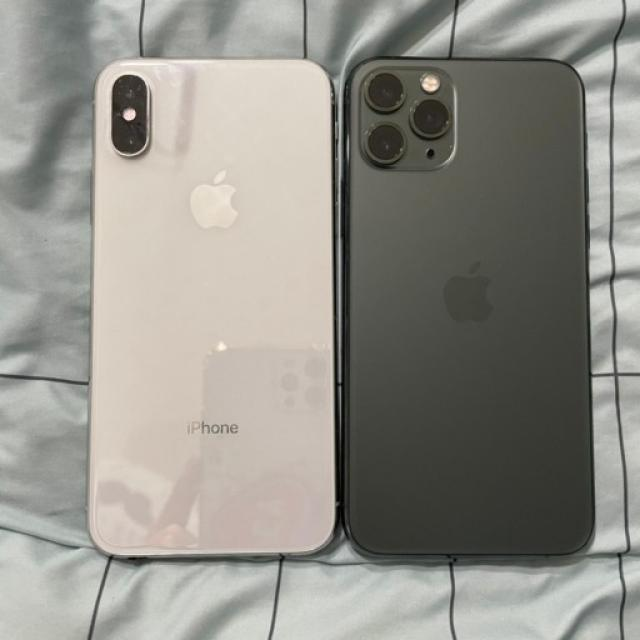phone: (344, 56, 594, 558), (87, 57, 336, 560)
